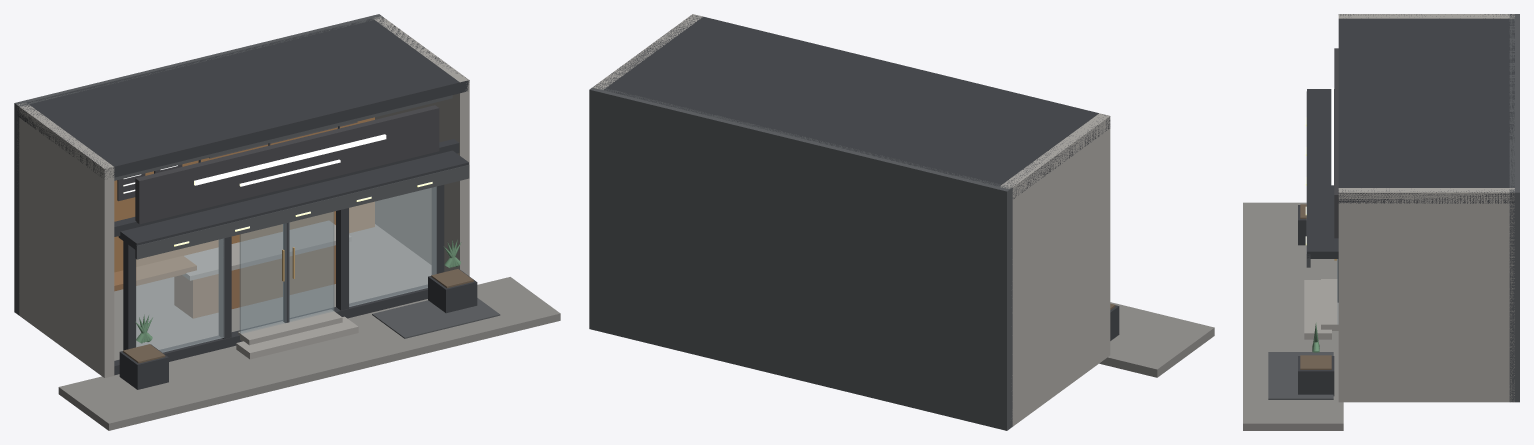
File: restaurant.glb
3 renders of one model, left to right at view 1: azimuth 30°, elevation 25°; view 2: azimuth 150°, elevation 25°; view 3: azimuth 270°, elevation 25°, orthographic. The views are drawn at different scales.
Parts seen in each view (by area): view 1: Building_Roof, Building_Left, Sidewalk, Signboard, Interior_Floor, Glass_Right, Glass_Left, Building_Right, Awning, Service_Counter_Base, Awning_Fascia, Door_Left (+19 smaller); view 2: Building_Back, Building_Roof, Building_Left, Sidewalk, Building_Right; view 3: Building_Right, Building_Roof, Sidewalk, Awning, Building_Back, Pickup_Zone, Step_1, Planter_1, Signboard, Step_2, Building_Left, Planter_Soil_1 (+2 smaller).
Part boxes in pixels (left/top/right/bottom): Building_Roof: left=17, top=16, right=469, bottom=178; Building_Left: left=17, top=103, right=114, bottom=377; Sidewalk: left=58, top=277, right=560, bottom=430; Signboard: left=135, top=105, right=439, bottom=224; Interior_Floor: left=114, top=224, right=431, bottom=360; Glass_Right: left=349, top=186, right=436, bottom=306; Glass_Left: left=136, top=238, right=224, bottom=352; Building_Right: left=373, top=16, right=469, bottom=276; Awning: left=118, top=150, right=468, bottom=249; Service_Counter_Base: left=174, top=245, right=335, bottom=318; Awning_Fascia: left=135, top=165, right=469, bottom=259; Door_Left: left=239, top=223, right=286, bottom=333; Building_Back: left=589, top=86, right=1012, bottom=430; Building_Roof: left=595, top=15, right=1110, bottom=198; Building_Left: left=1000, top=113, right=1110, bottom=426; Sidewalk: left=1099, top=302, right=1214, bottom=377; Building_Right: left=592, top=14, right=702, bottom=89; Building_Right: left=1338, top=188, right=1514, bottom=402; Building_Roof: left=1338, top=14, right=1514, bottom=203; Sidewalk: left=1243, top=202, right=1343, bottom=430; Awning: left=1307, top=89, right=1338, bottom=258; Building_Back: left=1509, top=14, right=1519, bottom=402; Pickup_Zone: left=1268, top=352, right=1333, bottom=399; Step_1: left=1304, top=280, right=1331, bottom=339; Planter_1: left=1298, top=356, right=1334, bottom=395; Signboard: left=1334, top=48, right=1338, bottom=238; Step_2: left=1321, top=279, right=1338, bottom=330; Building_Left: left=1338, top=14, right=1514, bottom=18; Planter_Soil_1: left=1300, top=355, right=1331, bottom=369.
Bounding box in the file's own units: 10.4 × 4.76 × 5.5.
